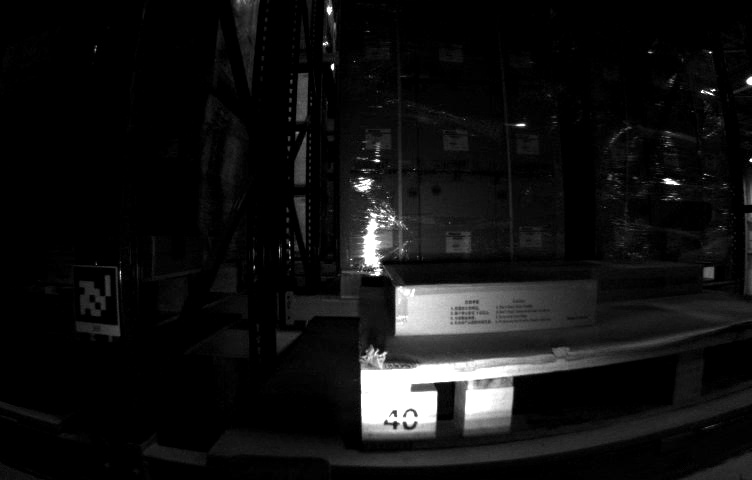True Barcode: (33, 244, 81, 289)
